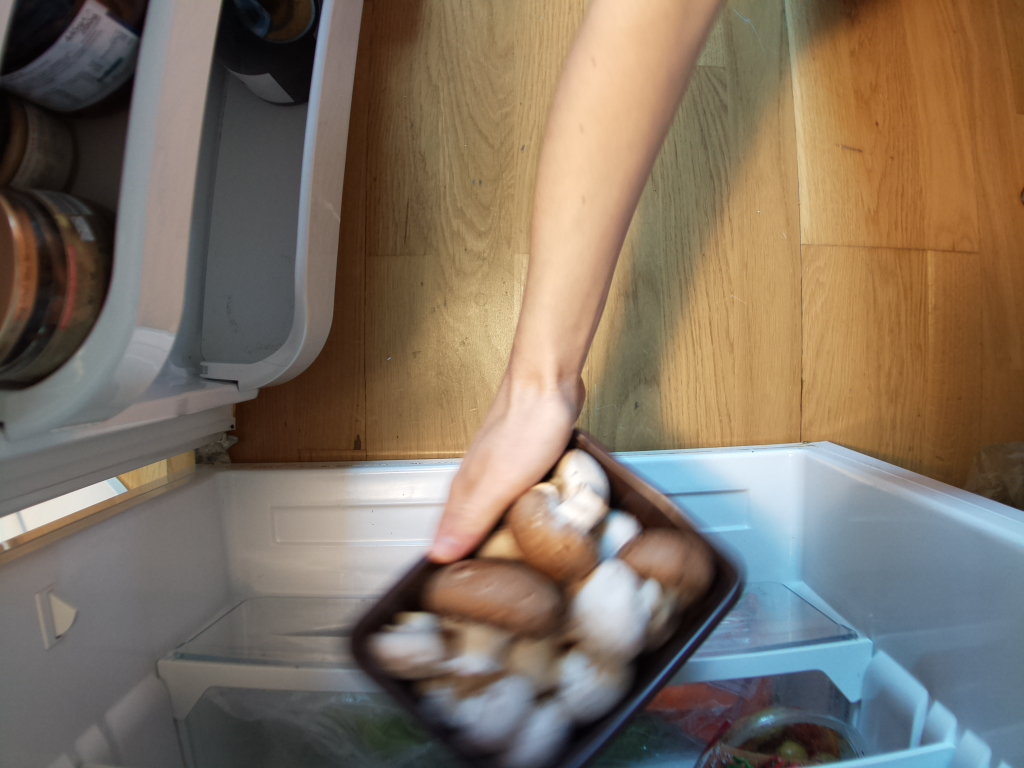mushrooms: (350, 435, 729, 768)
